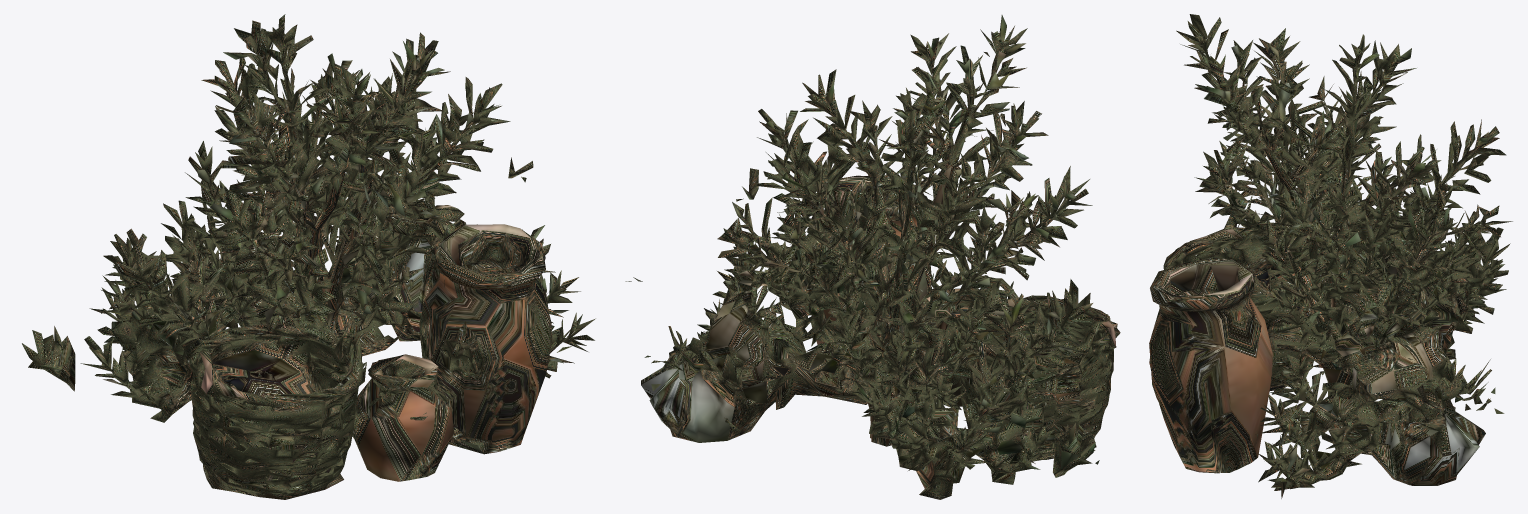
The model's file is olive-basket-cluster-a.glb.
3 renders of one model, left to right at view 1: azimuth 30°, elevation 25°; view 2: azimuth 150°, elevation 25°; view 3: azimuth 270°, elevation 25°, orthographic. The views are drawn at different scales.
Visible parts, largest first — view 1: geometry_0; view 2: geometry_0; view 3: geometry_0.
Boxes of the visible parts, x1,y1,x2,y2 form: geometry_0: (22, 14, 595, 499); geometry_0: (625, 15, 1120, 499); geometry_0: (1149, 14, 1512, 498).
Size of the model in its own units: 1.91 by 1.5 by 1.3.
1 material, 1 textured.
